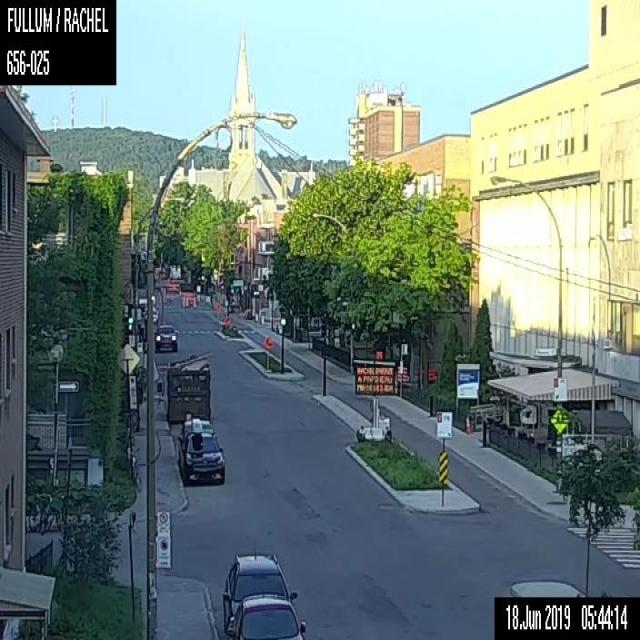construction: (354, 360, 394, 442), (263, 334, 272, 348), (428, 366, 436, 378), (223, 314, 231, 324), (402, 367, 406, 384), (215, 302, 221, 311), (376, 350, 382, 358), (397, 365, 400, 381), (192, 296, 195, 306), (185, 296, 188, 305), (182, 296, 184, 306)
vehicle: (221, 552, 298, 632), (227, 592, 306, 638), (181, 418, 225, 482), (177, 420, 213, 461), (153, 324, 178, 352), (166, 281, 179, 293)
